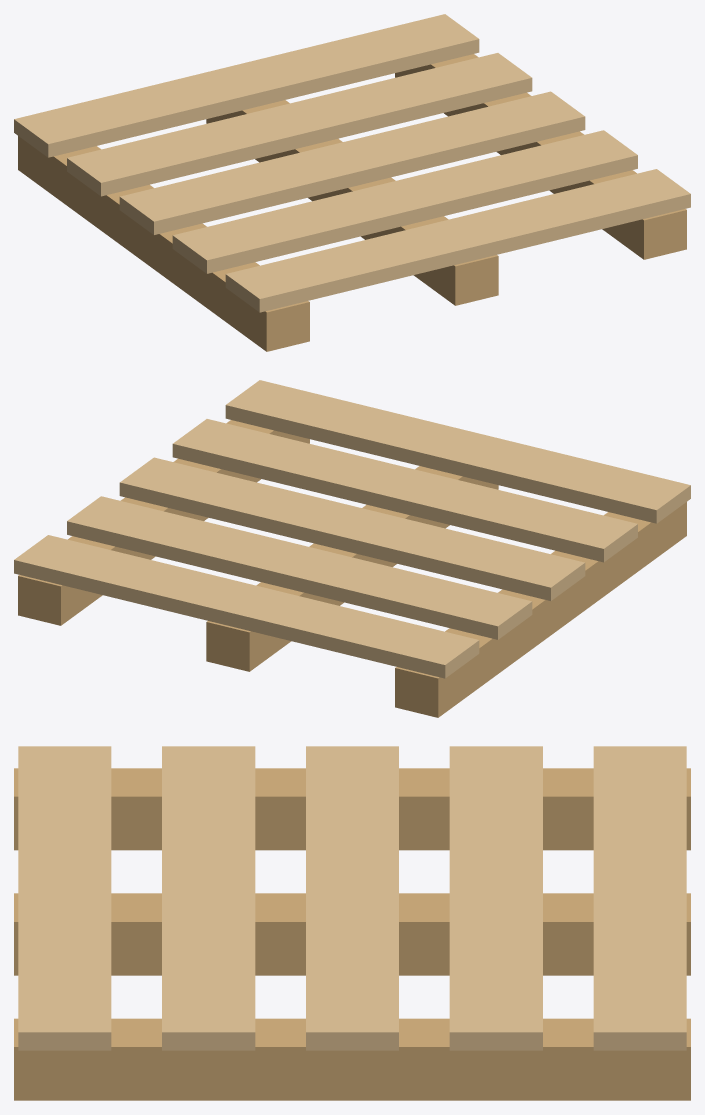
File: PRP_Pallet.fbx
The picture shows the model from 3 angles, top to bottom: view 1: azimuth 30°, elevation 25°; view 2: azimuth 150°, elevation 25°; view 3: azimuth 270°, elevation 25°; orthographic projection. The views are drawn at different scales.
Visible parts, largest first — view 1: PRP_Pallet; view 2: PRP_Pallet; view 3: PRP_Pallet.
Part boxes in pixels (box(x1,y1,x2,y2)): PRP_Pallet: box(14, 14, 690, 351); PRP_Pallet: box(14, 380, 690, 717); PRP_Pallet: box(14, 746, 690, 1100).
Bounding box in the file's own units: 4 × 0.47 × 4.
